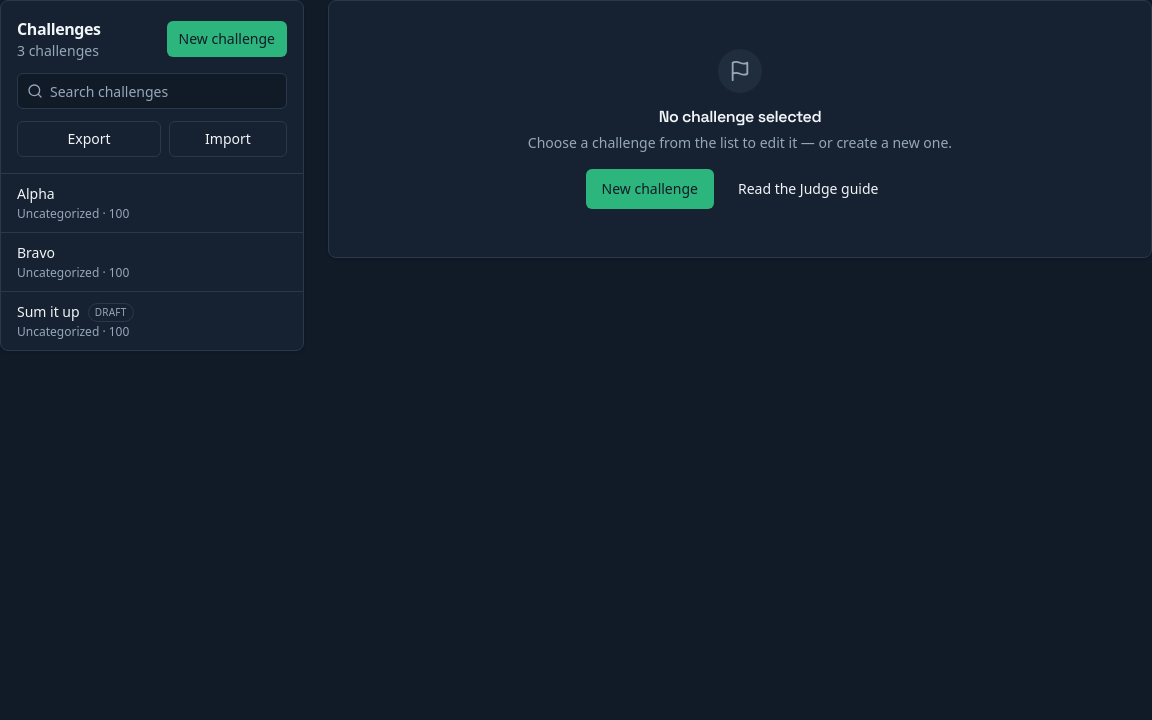
ChallengeAdmin master-detail editor › does not save one challenge's values onto another when switching targets
Click the button "Alpha Uncategorized · 100": (36, 194) [1, 174, 303, 232]
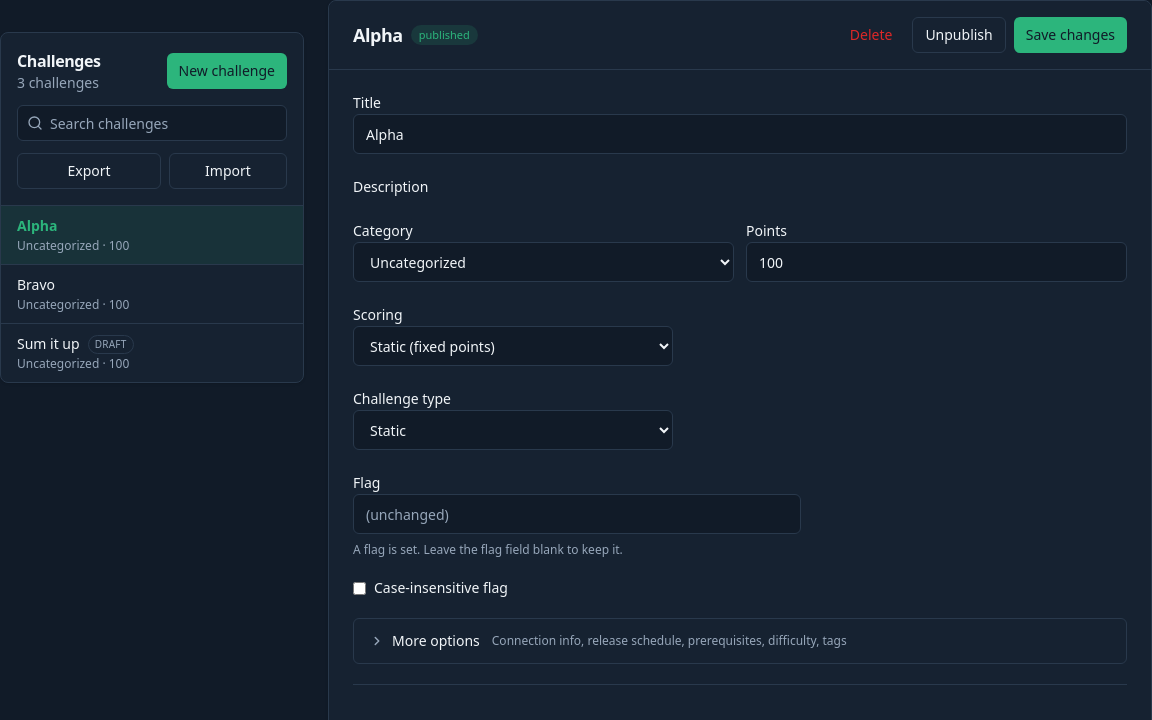
Click the button "Bravo Uncategorized · 100": (36, 284) [1, 265, 303, 323]
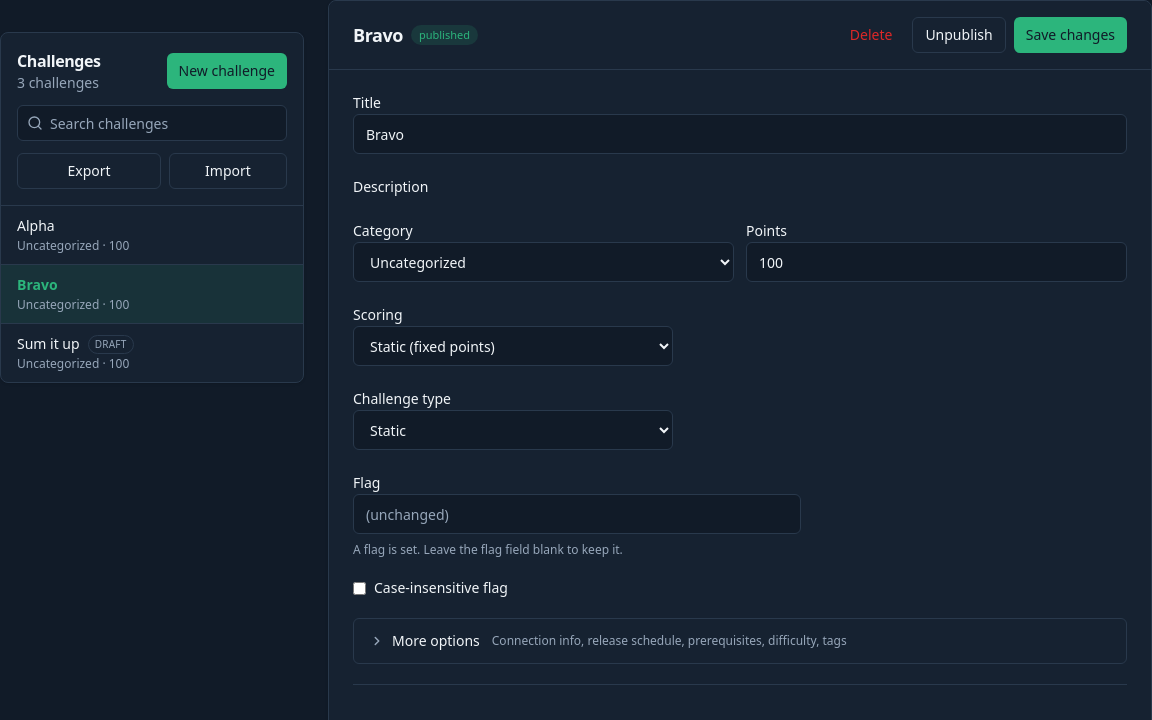
Expected: the element labelled "Connection info" is empty, [353, 618, 1127, 664]
Expected: the field labelled "Title" holds "Bravo", [353, 114, 1127, 154]
